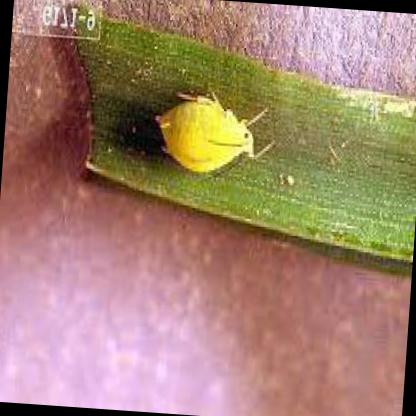schizaphis graminum: (157, 102, 253, 174)
